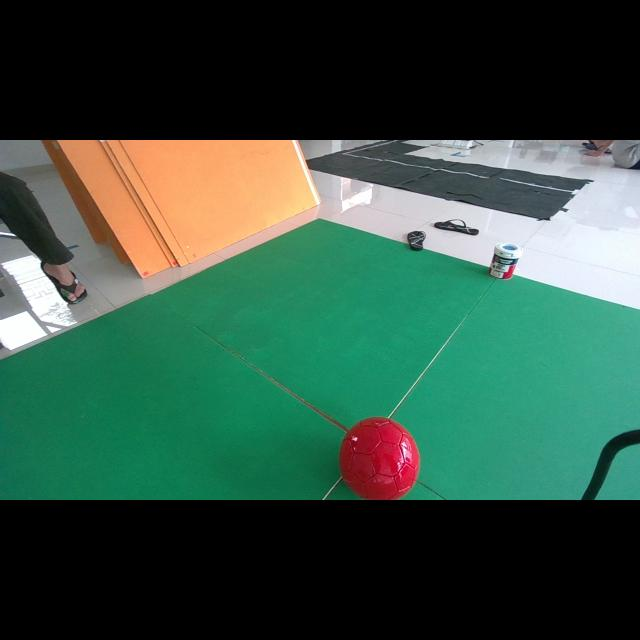R: (339, 418, 420, 500)
